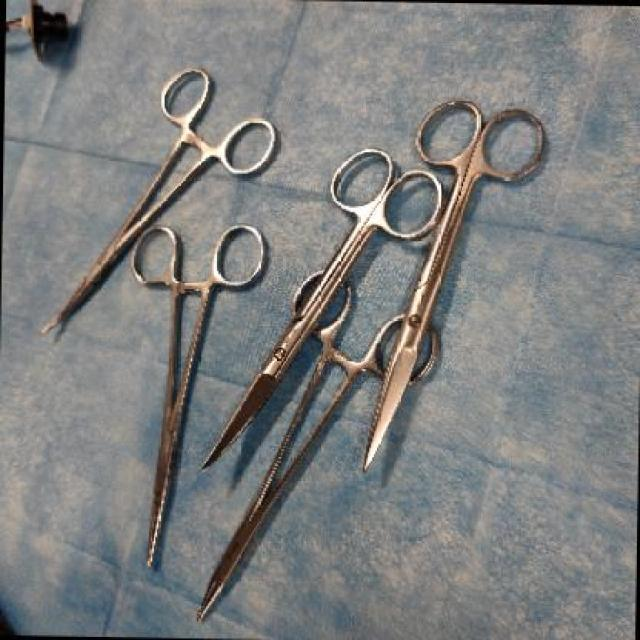Monitor: (39, 42, 552, 634)
